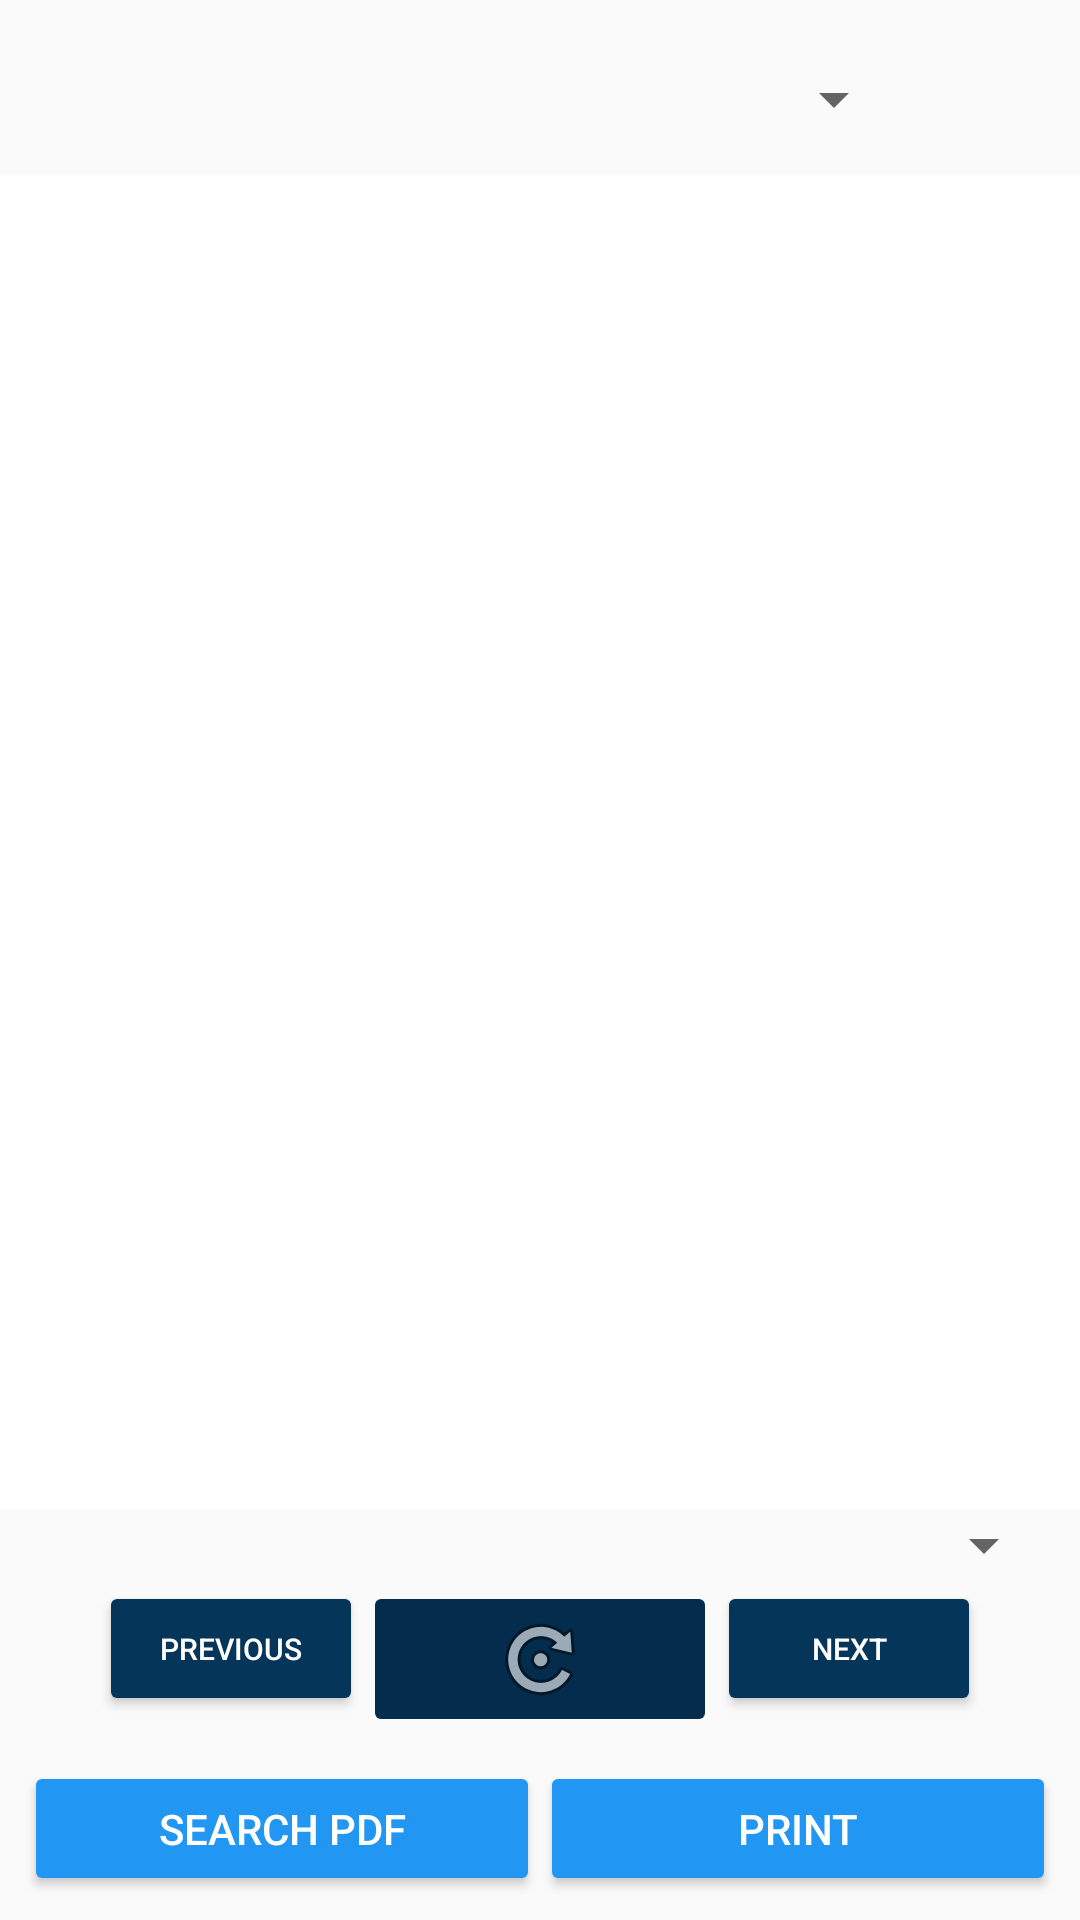

Where icons sit on this 1080px x 1920px app screen, as (x1, y1, x2, y2):
rotate: (375, 1599, 705, 1719)
